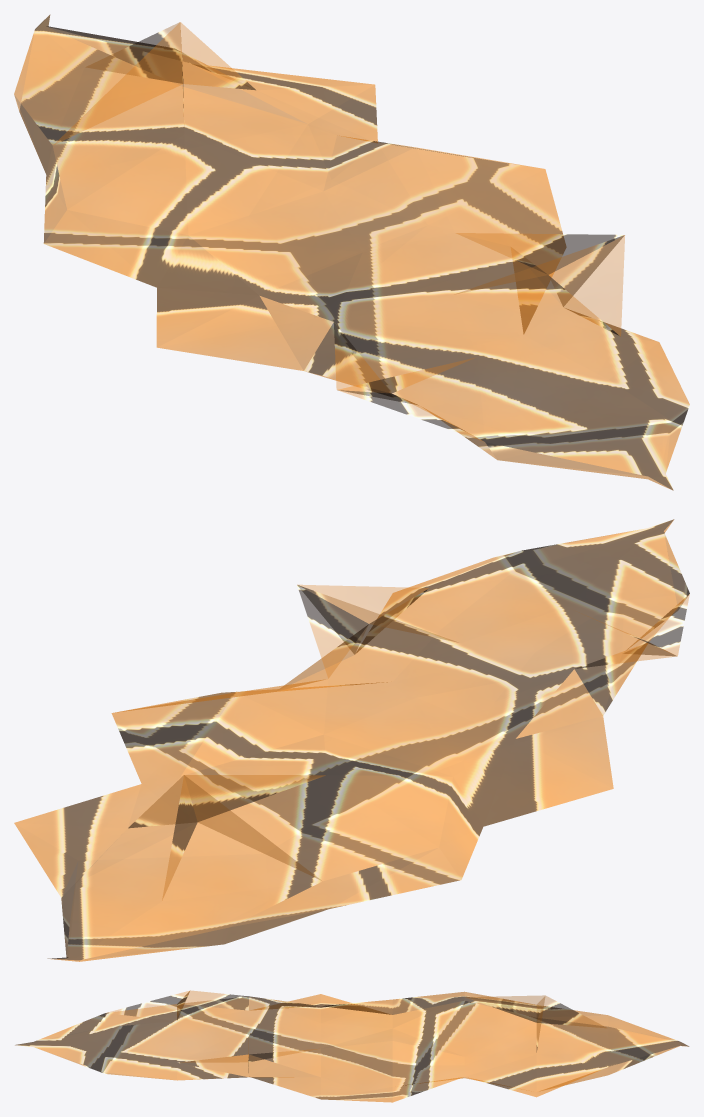
Rendered from heavens_shrapnel_shard_c.glb.
3 views of the same model, one above another, from view 1: azimuth 30°, elevation 25°; view 2: azimuth 150°, elevation 25°; view 3: azimuth 270°, elevation 25° (orthographic). The views are drawn at different scales.
Visible parts, largest first — view 1: heavens_shrapnel_shard_c; view 2: heavens_shrapnel_shard_c; view 3: heavens_shrapnel_shard_c.
Part boxes in pixels (<box>): heavens_shrapnel_shard_c: <box>14,14,689,490</box>; heavens_shrapnel_shard_c: <box>14,519,689,961</box>; heavens_shrapnel_shard_c: <box>15,990,689,1102</box>.
Bounding box in the file's own units: 0.2068 × 0.0603 × 0.5016.
Materials: 1 (1 with a texture image).
